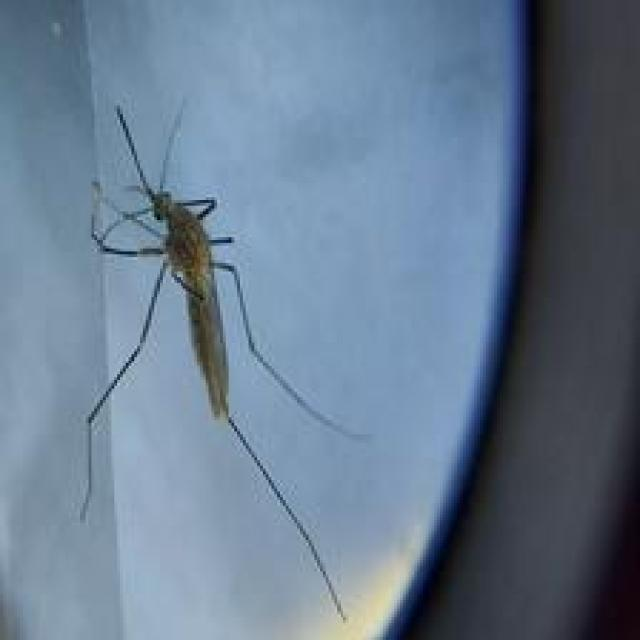Culex: (76, 96, 373, 621)
